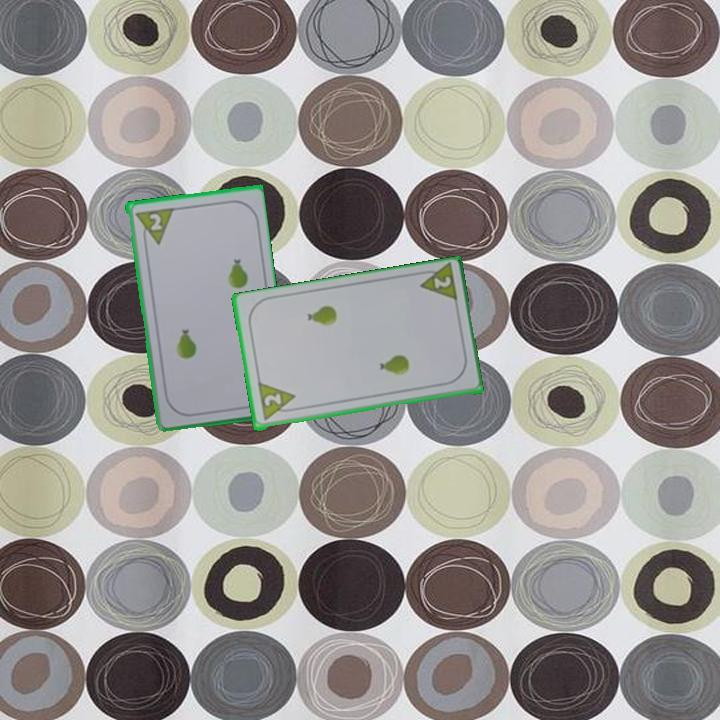2p: (254, 380, 300, 425), (413, 262, 460, 306), (131, 204, 175, 249)
